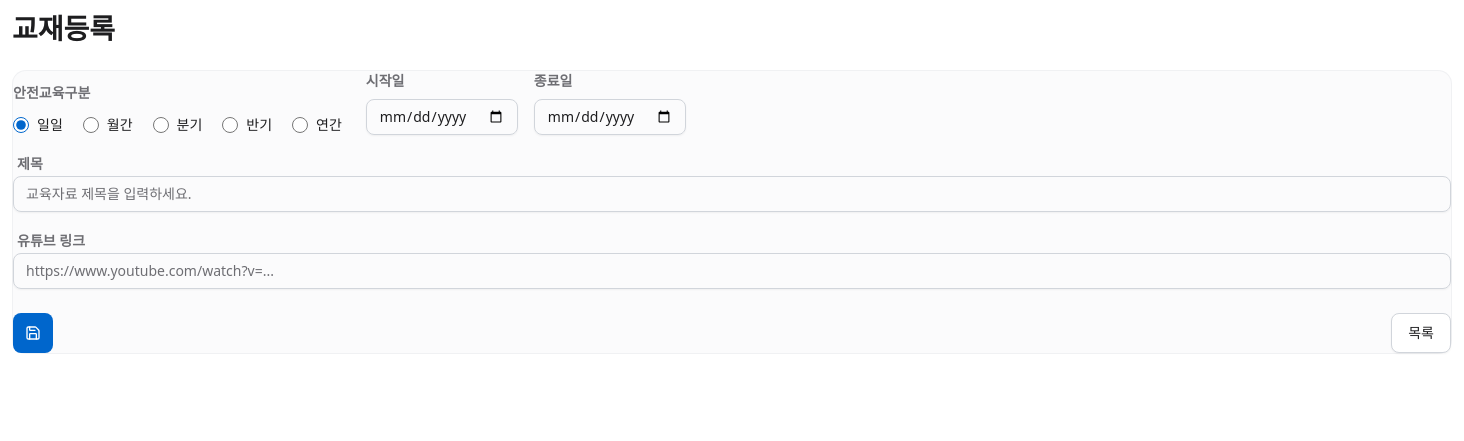
education resource new page › requires both dates before sending a save request
In the field labelled "제목": (732, 194) [13,176,1451,212], type "교육"
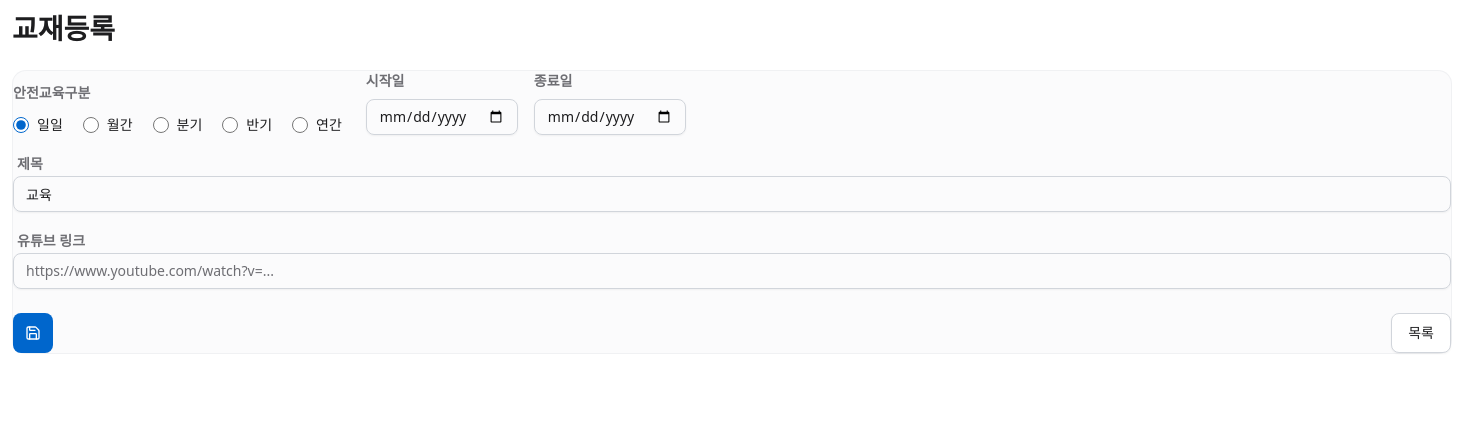
In the field labelled "유튜브 링크": (732, 271) [13,253,1451,289], type "https://youtu.be/example"
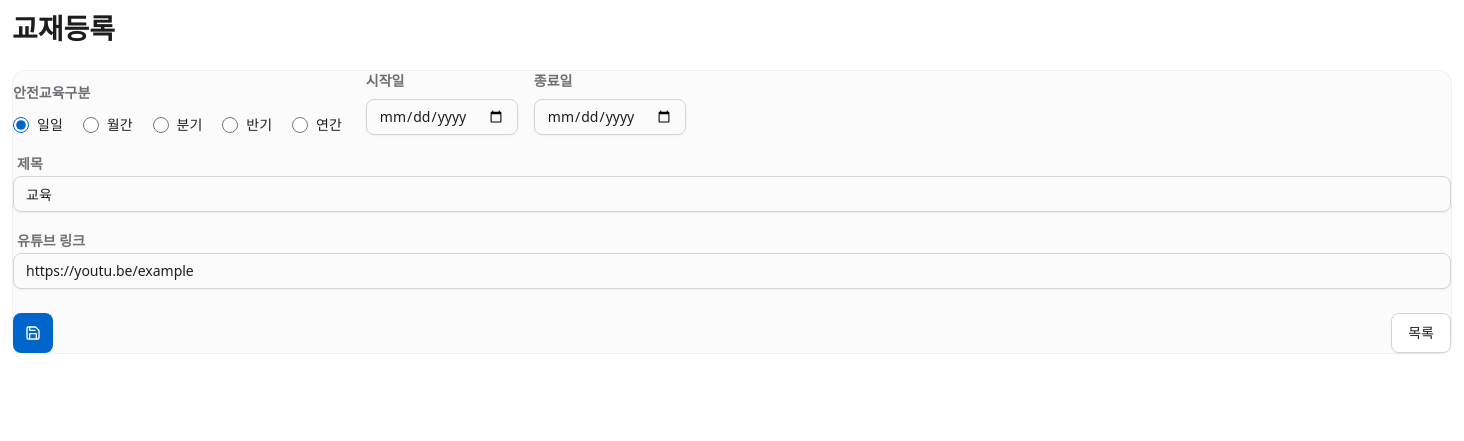
Click the button named "저장": (33, 333) [13,313,53,353]
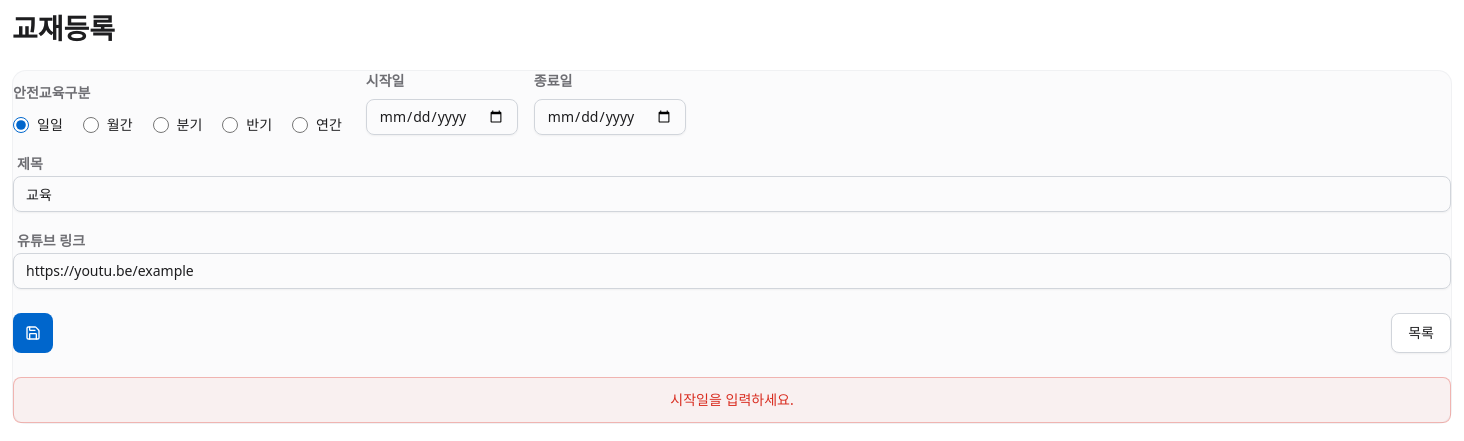
expect the text "시작일을 입력하세요." is shown: met, box [13,377,1451,423]
In the date field labelled "시작일": (442, 117) [366,99,518,135], type "2026-10-07"
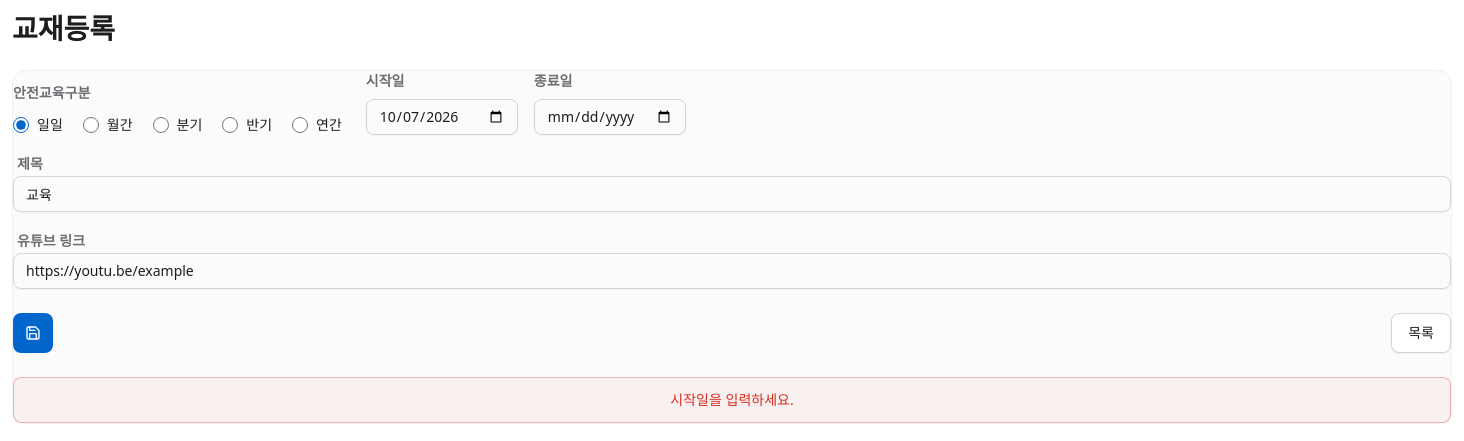
Click the button named "저장": (33, 333) [13,313,53,353]
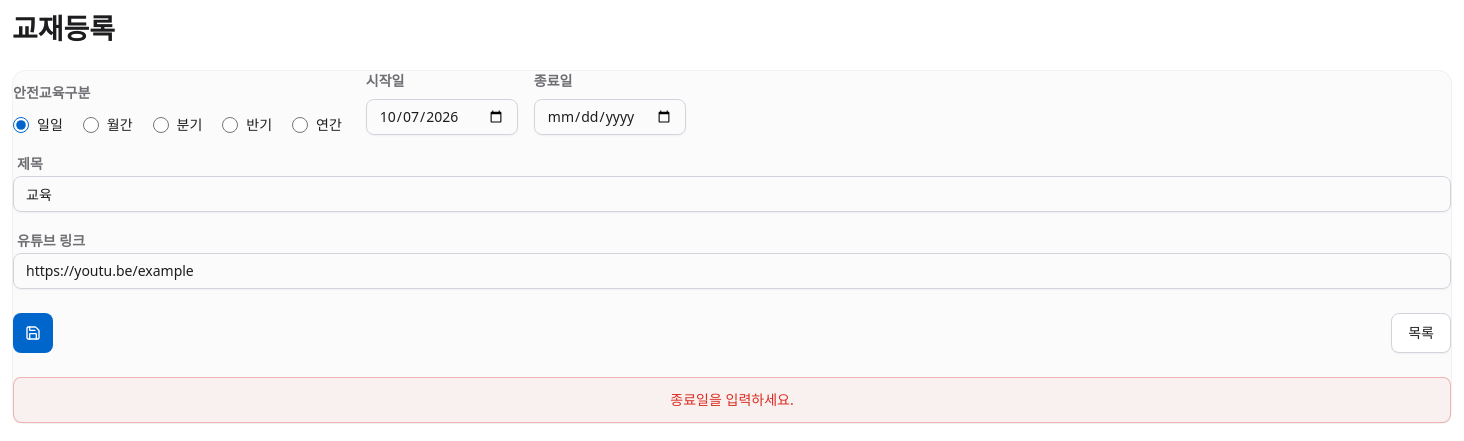
expect the text "종료일을 입력하세요." is shown: met, box [13,377,1451,423]
